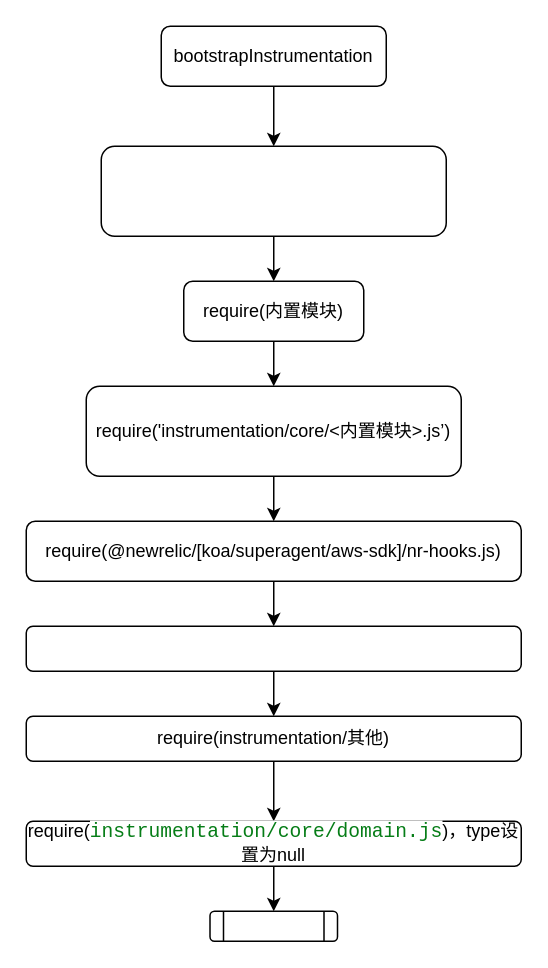
Image size: 548x968. Some labels were removed from this diagram. The box of each missing label's shape, as (x1, y1, x2, y2) in pixels:
exit: (208, 910, 338, 941)
require('instrumentation/core/globals.js’): (100, 145, 446, 236)
require(instrumentation/amqblib).selfRegister: (25, 625, 521, 671)
